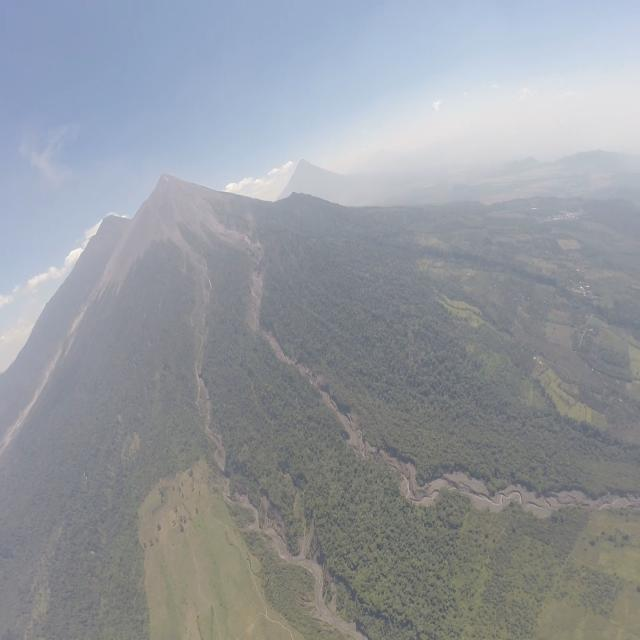Summit: (155, 169, 180, 185)
